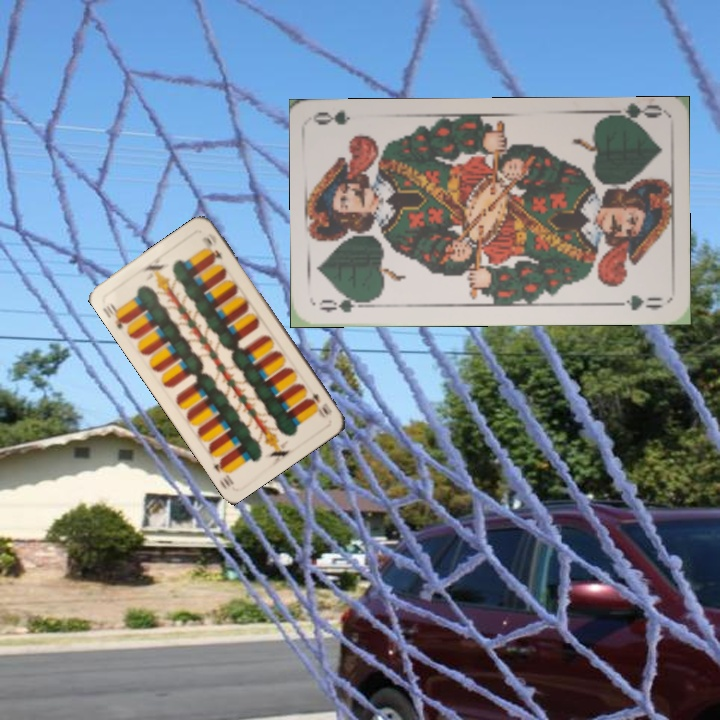E10: (98, 299, 131, 332), (306, 388, 334, 421)
GO: (604, 103, 663, 130), (315, 291, 374, 316)
